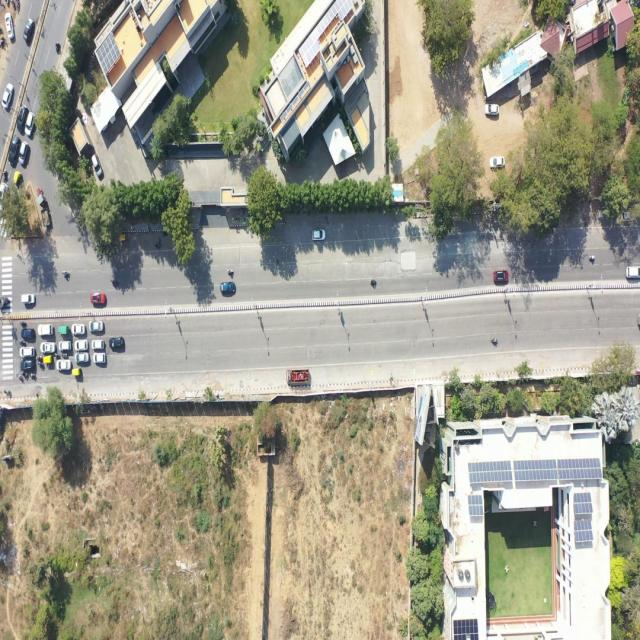3W: (13, 169, 24, 188), (118, 232, 130, 244), (70, 367, 83, 377), (42, 355, 53, 366)
Cars: (488, 152, 507, 174), (2, 78, 15, 110), (8, 132, 20, 166), (23, 11, 35, 44), (16, 100, 27, 132), (4, 11, 16, 40), (89, 289, 108, 307), (90, 152, 104, 176), (0, 180, 9, 216), (491, 268, 510, 285), (484, 100, 501, 119), (623, 263, 640, 282), (70, 321, 88, 338), (36, 321, 54, 338), (311, 224, 327, 243), (18, 139, 29, 166), (108, 334, 125, 351), (19, 292, 38, 307), (220, 280, 237, 296), (55, 358, 72, 374), (25, 110, 35, 137), (88, 319, 106, 334), (71, 352, 91, 364), (40, 340, 56, 355), (73, 338, 89, 352), (20, 327, 36, 341), (91, 338, 106, 352), (92, 352, 107, 366), (19, 346, 35, 359), (57, 340, 72, 352), (20, 360, 35, 371)
LCV: (35, 184, 52, 230), (57, 324, 70, 337)
M2W: (152, 238, 164, 251), (487, 335, 500, 347), (54, 40, 62, 55), (61, 268, 71, 280), (3, 385, 12, 398), (108, 277, 120, 286), (588, 254, 598, 264), (226, 267, 235, 277), (10, 1, 18, 12), (16, 371, 23, 383), (3, 165, 8, 181), (60, 352, 70, 360), (38, 362, 46, 372), (18, 319, 28, 327), (0, 36, 5, 51), (30, 372, 38, 380), (160, 232, 169, 239), (369, 279, 378, 286), (19, 339, 27, 346), (22, 372, 30, 379), (36, 355, 43, 361), (16, 0, 20, 9), (54, 353, 60, 358)
Truck: (284, 365, 313, 387)
